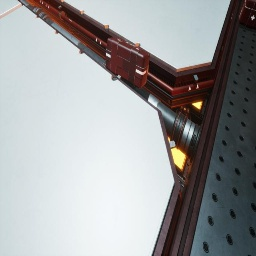FirstAidBox ,: (106, 37, 150, 89), (239, 0, 256, 30)
